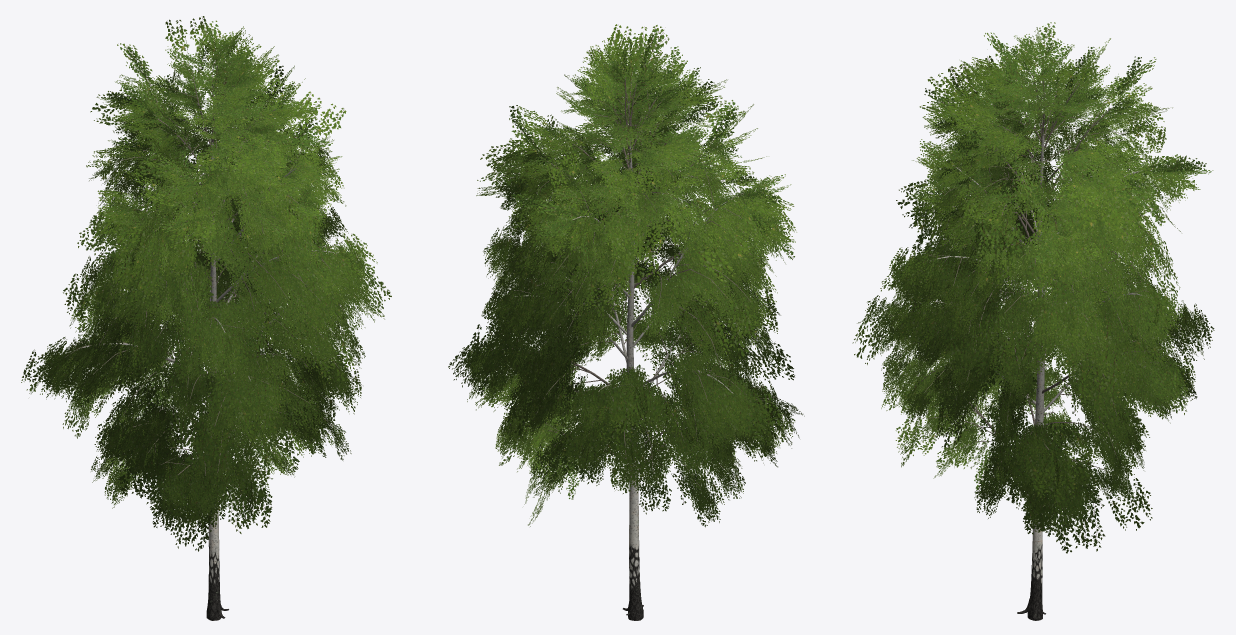
File: SilverBirch.glb
3 renders of one model, left to right at view 1: azimuth 30°, elevation 25°; view 2: azimuth 150°, elevation 25°; view 3: azimuth 270°, elevation 25°, orthographic.
Parts seen in each view (by area): view 1: leaves, branches, trunk; view 2: leaves, branches, trunk; view 3: leaves, branches, trunk.
Part boxes in pixels (left/top/right/bottom): leaves: left=21, top=16, right=391, bottom=551; branches: left=65, top=64, right=346, bottom=476; trunk: left=206, top=125, right=228, bottom=620; leaves: left=448, top=24, right=804, bottom=527; branches: left=491, top=77, right=780, bottom=488; trunk: left=623, top=140, right=643, bottom=620; leaves: left=852, top=22, right=1214, bottom=553; branches: left=889, top=75, right=1180, bottom=480; trunk: left=1017, top=134, right=1045, bottom=620.
Bounding box in the file's own units: 10.99 × 18.2 × 10.47.
Materials: 3 (3 with a texture image).
